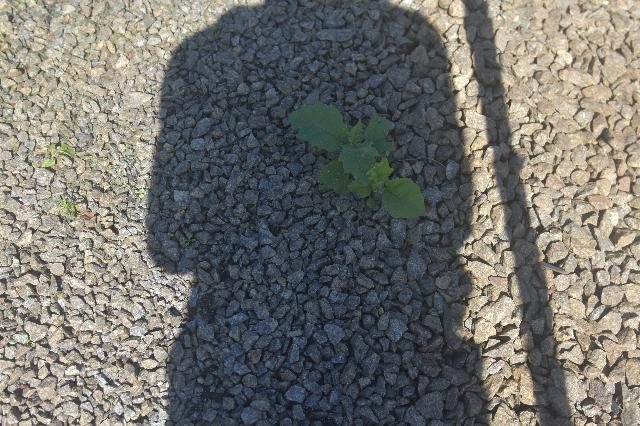MalezaMontesDelPlata: (283, 90, 433, 237), (34, 139, 81, 176)
